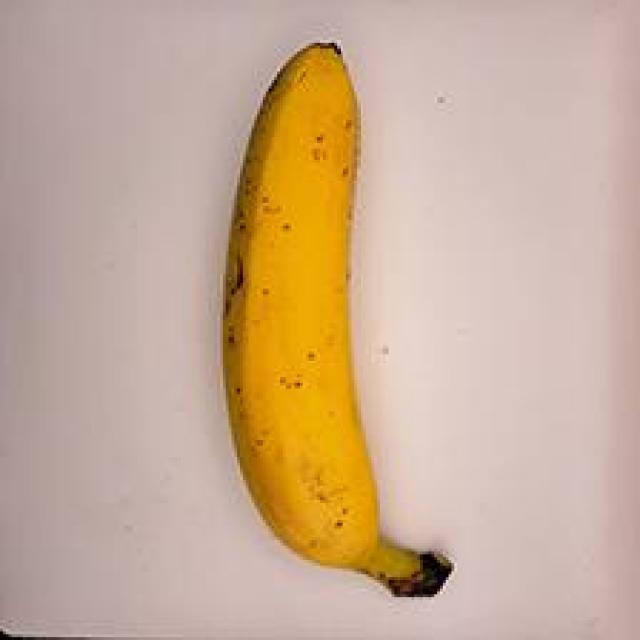Ripe: (200, 12, 496, 613)
